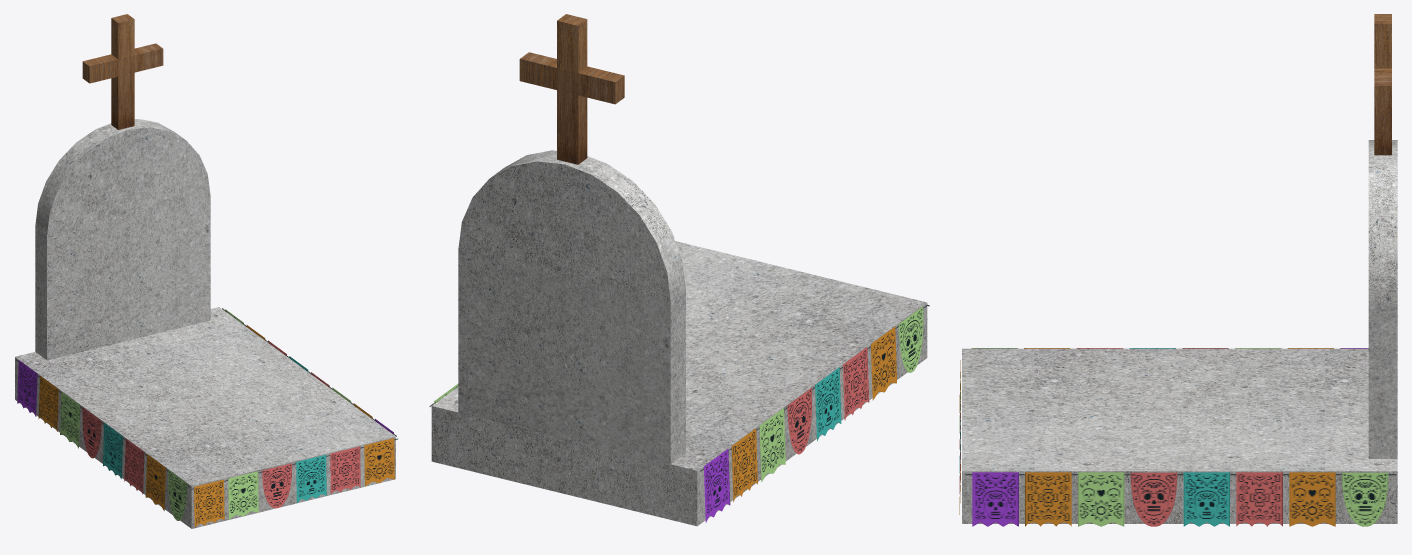
The model's file is Tumba2.obj.
3 views of the same model, side by side, from view 1: azimuth 30°, elevation 25°; view 2: azimuth 150°, elevation 25°; view 3: azimuth 270°, elevation 25° (orthographic). The views are drawn at different scales.
Visible parts, largest first — view 1: Box001, Cylinder001, Box002, Plane003, Plane001, Box003, Box004, Plane002; view 2: Box001, Cylinder001, Box002, Plane001, Box003, Box004; view 3: Box001, Plane002, Cylinder001, Box002, Box003, Box004.
Boxes of the visible parts, left/top/right/bottom form: Box001: left=15, top=307, right=395, bottom=528; Cylinder001: left=35, top=119, right=210, bottom=302; Box002: left=35, top=196, right=210, bottom=360; Plane003: left=190, top=438, right=398, bottom=527; Plane001: left=15, top=359, right=190, bottom=520; Box003: left=111, top=14, right=134, bottom=129; Box004: left=82, top=43, right=163, bottom=83; Plane002: left=222, top=308, right=396, bottom=436; Box001: left=431, top=241, right=927, bottom=526; Cylinder001: left=458, top=150, right=685, bottom=389; Box002: left=458, top=249, right=685, bottom=464; Plane001: left=700, top=305, right=927, bottom=522; Box003: left=557, top=14, right=587, bottom=164; Box004: left=519, top=52, right=624, bottom=104; Box001: left=962, top=348, right=1397, bottom=523; Plane002: left=965, top=472, right=1396, bottom=526; Cylinder001: left=1368, top=140, right=1397, bottom=304; Box002: left=1368, top=304, right=1397, bottom=458; Box003: left=1374, top=14, right=1391, bottom=155; Box004: left=1374, top=68, right=1391, bottom=106.
Size of the model in its own units: 10.29 by 17.37 by 15.06.
Materials: 3 (3 with a texture image).
